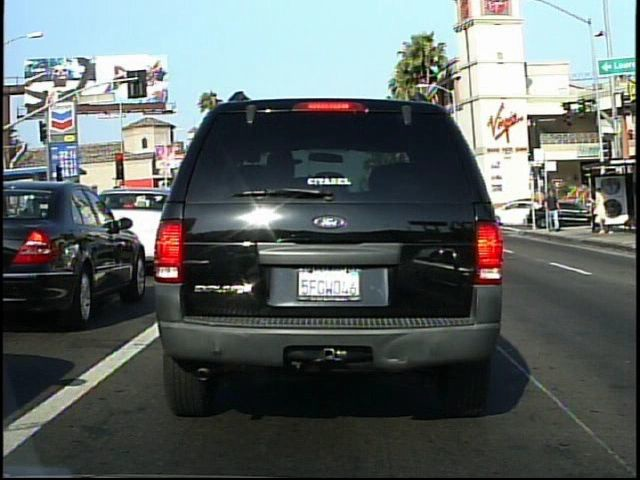person: (589, 183, 614, 236), (541, 184, 562, 234)
